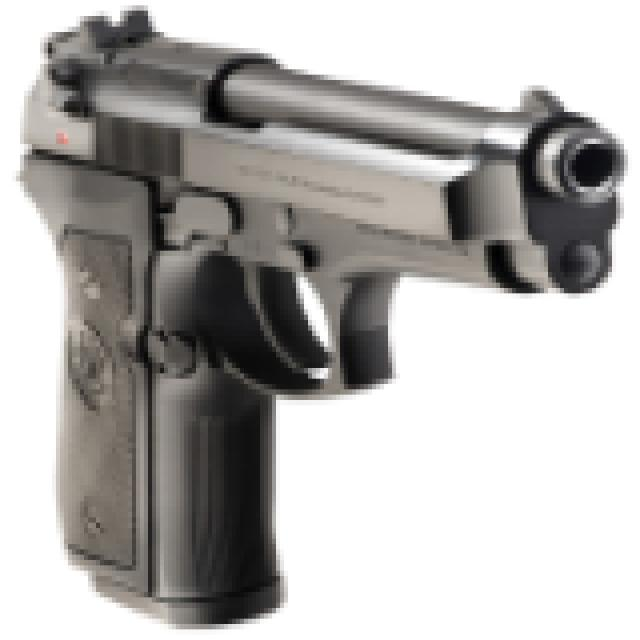Gun: (12, 11, 640, 608)
